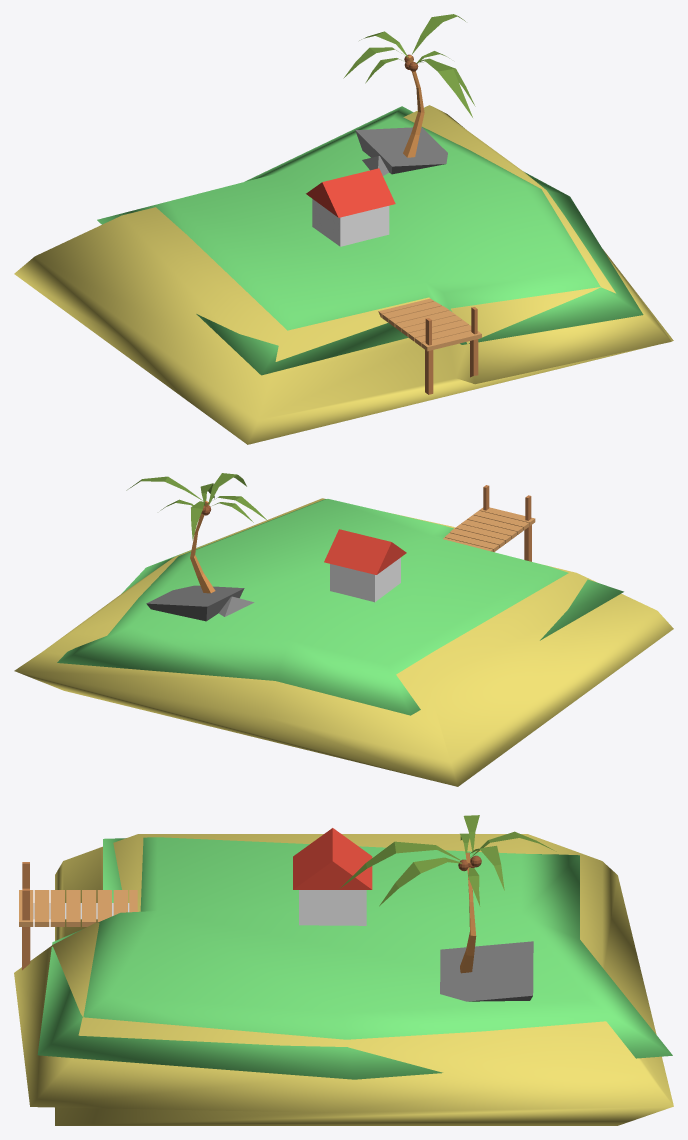
The model's file is island.gltf.
The picture shows the model from 3 angles, top to bottom: view 1: azimuth 30°, elevation 25°; view 2: azimuth 150°, elevation 25°; view 3: azimuth 270°, elevation 25°; orthographic projection. The views are drawn at different scales.
Parts seen in each view (by area): view 1: Cube, grass, Cube.018, roof, Cube.001, Cube.003; view 2: grass, Cube, roof, Cube.018, Cube.001, Cube.003; view 3: grass, Cube, Cube.018, roof, Cube.001, Plane.003, Cube.003, Plane.004, Cube.010, Cube.008, Cube.009, Cube.007.
Boxes of the visible parts, bbox=[...] form: Cube: bbox=[14, 105, 673, 444]; grass: bbox=[97, 106, 643, 375]; Cube.018: bbox=[355, 127, 447, 174]; roof: bbox=[306, 168, 395, 217]; Cube.001: bbox=[312, 199, 389, 246]; Cube.003: bbox=[403, 55, 424, 157]; grass: bbox=[57, 499, 623, 715]; Cube: bbox=[14, 498, 673, 786]; roof: bbox=[324, 529, 406, 574]; Cube.018: bbox=[146, 585, 244, 621]; Cube.001: bbox=[330, 557, 400, 602]; Cube.003: bbox=[190, 501, 215, 593]; grass: bbox=[37, 837, 672, 1079]; Cube: bbox=[14, 834, 673, 1125]; Cube.018: bbox=[440, 941, 533, 1001]; roof: bbox=[293, 828, 372, 889]; Cube.001: bbox=[299, 890, 366, 925]; Plane.003: bbox=[340, 841, 460, 888]; Cube.003: bbox=[460, 852, 476, 973]; Plane.004: bbox=[379, 857, 461, 906]; Cube.010: bbox=[34, 890, 49, 926]; Cube.008: bbox=[66, 890, 80, 926]; Cube.009: bbox=[50, 890, 64, 926]; Cube.007: bbox=[82, 890, 96, 926].
Bounding box in the file's own units: 40.68 × 23.15 × 42.22.
